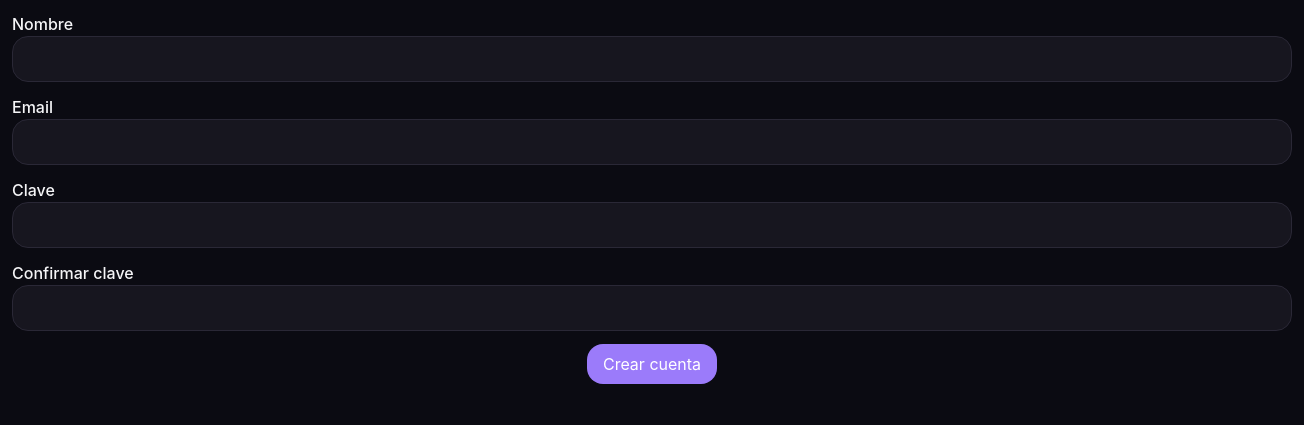
it: RegisterForm › test-block2-validation-message-clave-longitud
The image size is (1304, 425).
Type "Ana López" into the field labelled "Nombre" at (652, 59), box top-left (12, 36), bottom-right (1292, 82)
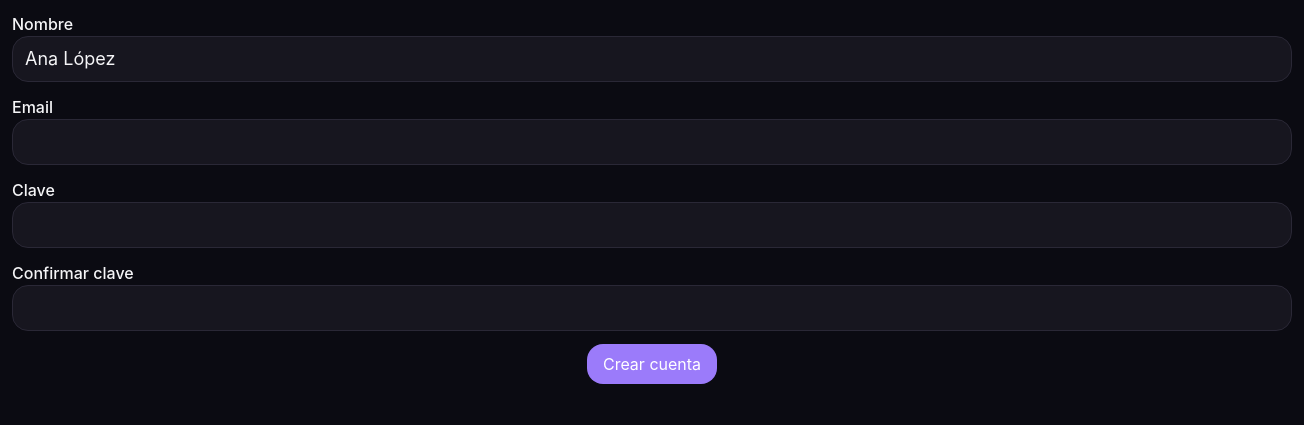
Type "ana@example.com" into the field labelled "Email" at (652, 142), box top-left (12, 119), bottom-right (1292, 165)
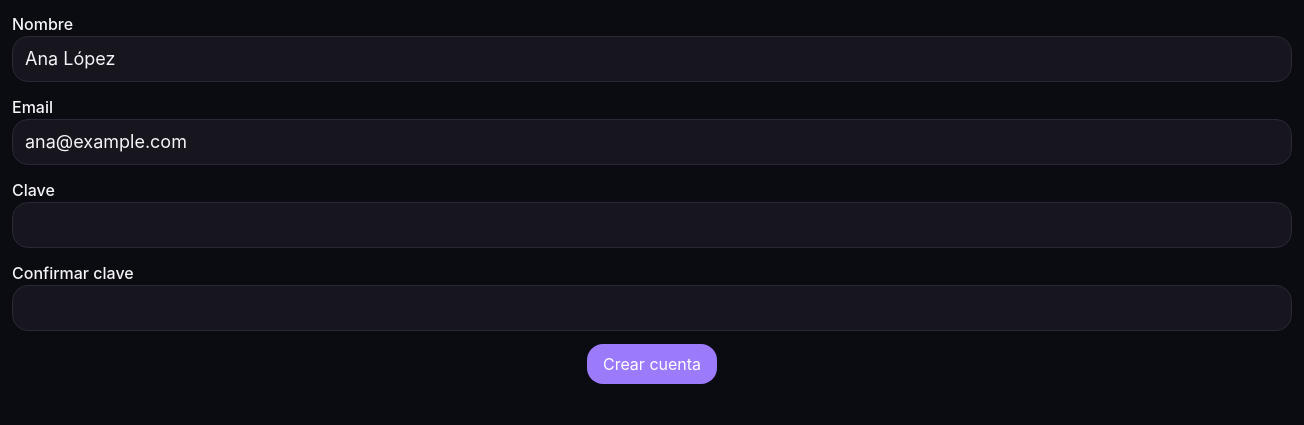
Type "short1" into the password field labelled "Clave" at (652, 225), box top-left (12, 202), bottom-right (1292, 248)
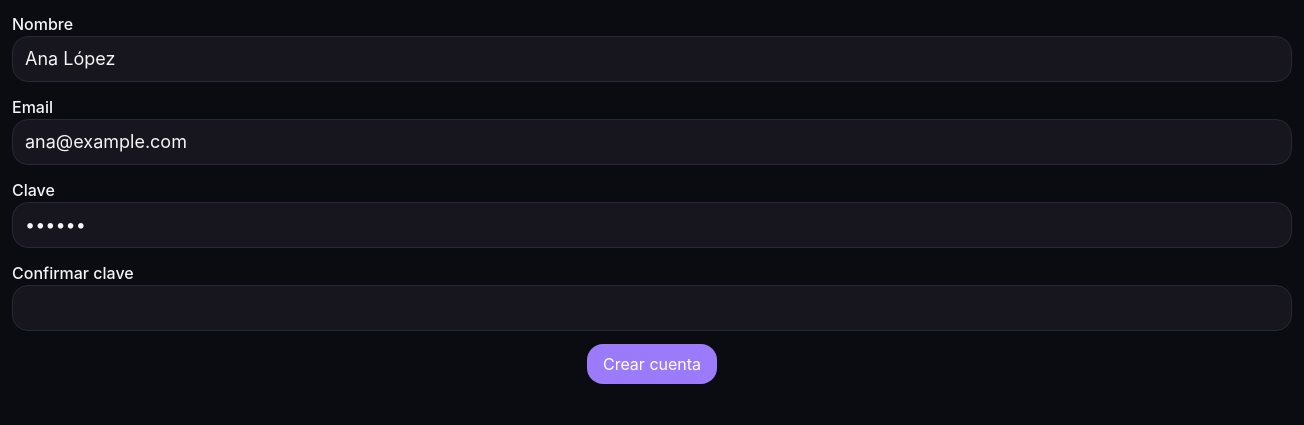
Type "short1" into the password field labelled "Confirmar clave" at (652, 308), box top-left (12, 285), bottom-right (1292, 331)
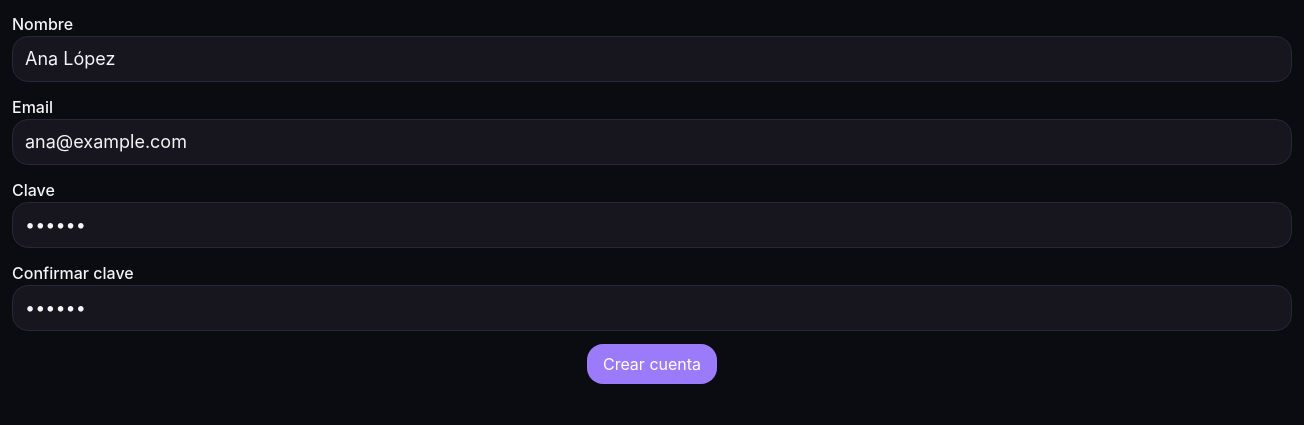
Click the button "Crear cuenta" at (652, 364), box top-left (587, 344), bottom-right (717, 384)
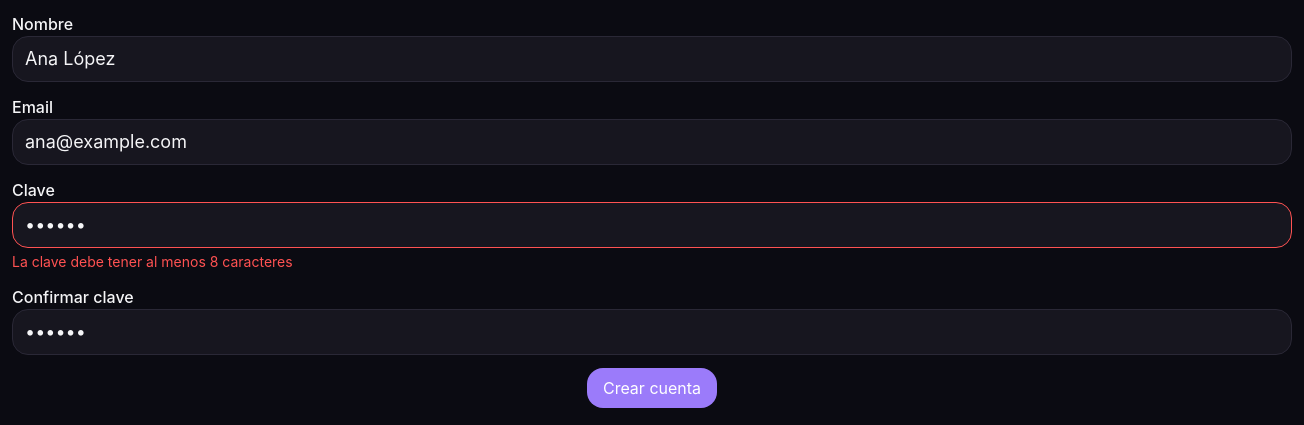
Expected: the text "La clave debe tener al menos 8 caracteres" is shown, top-left (12, 253), bottom-right (293, 270)
